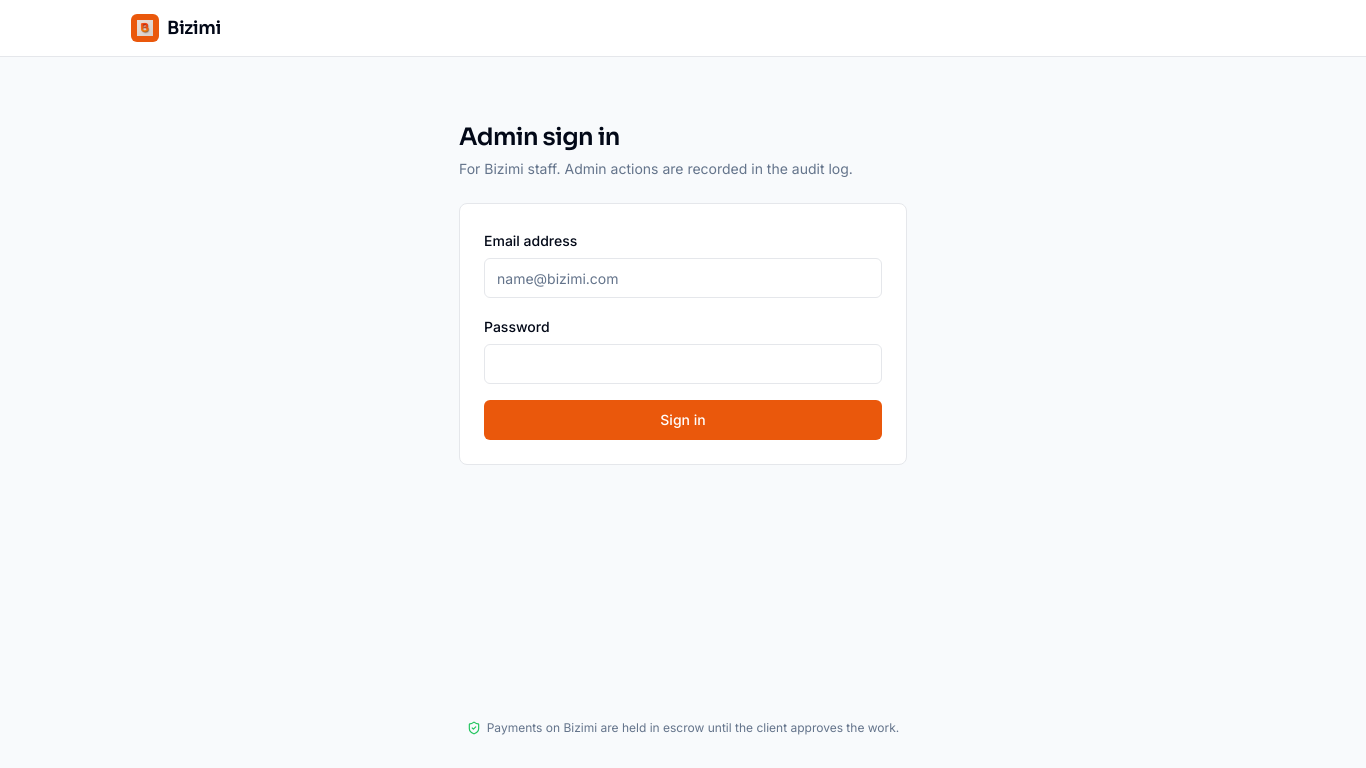
Test: AdminLogin › shows the auth error message when sign-in fails
Type "admin@bizimi.com" into the field labelled "Email address".
click(683, 278); type("admin@bizimi.com")  # box [484,258,882,298]
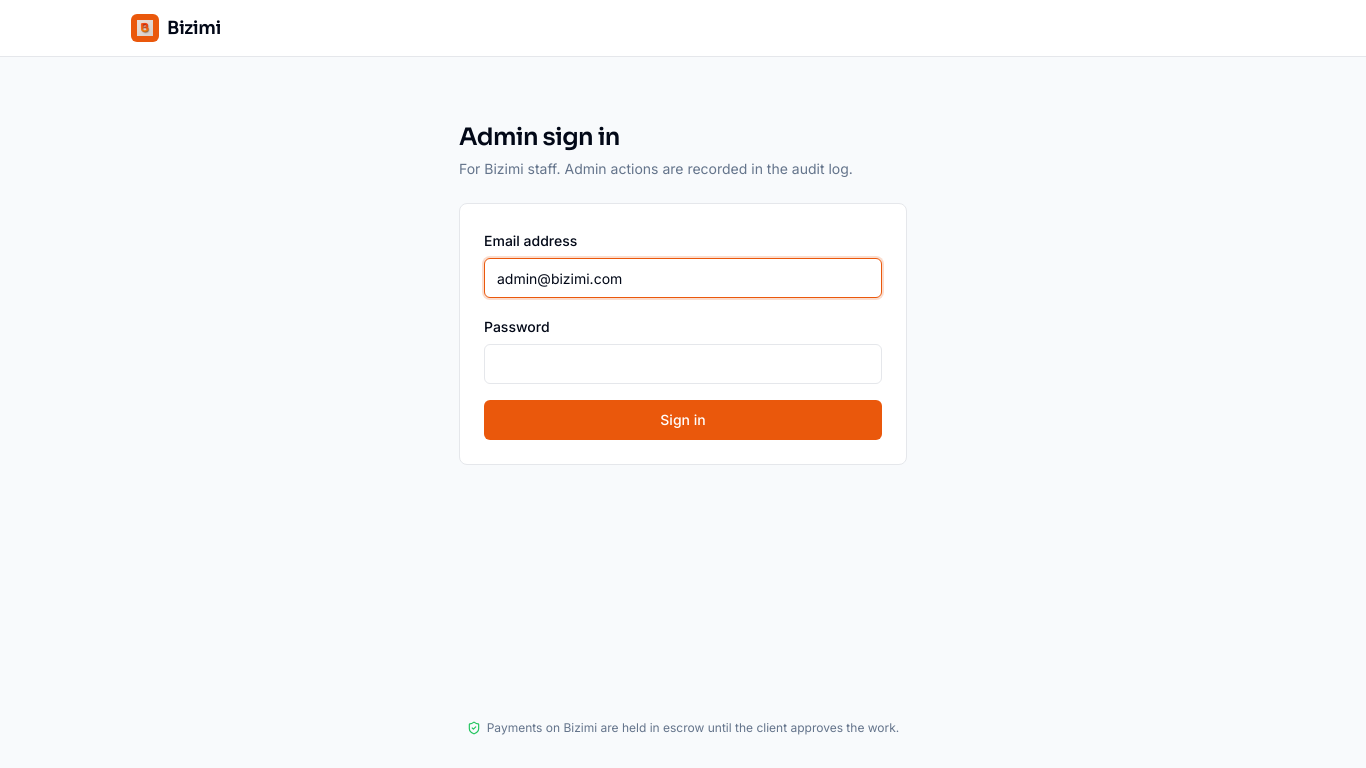
Type "hunter2" into the password field labelled "Password".
click(683, 364); type("hunter2")  # box [484,344,882,384]
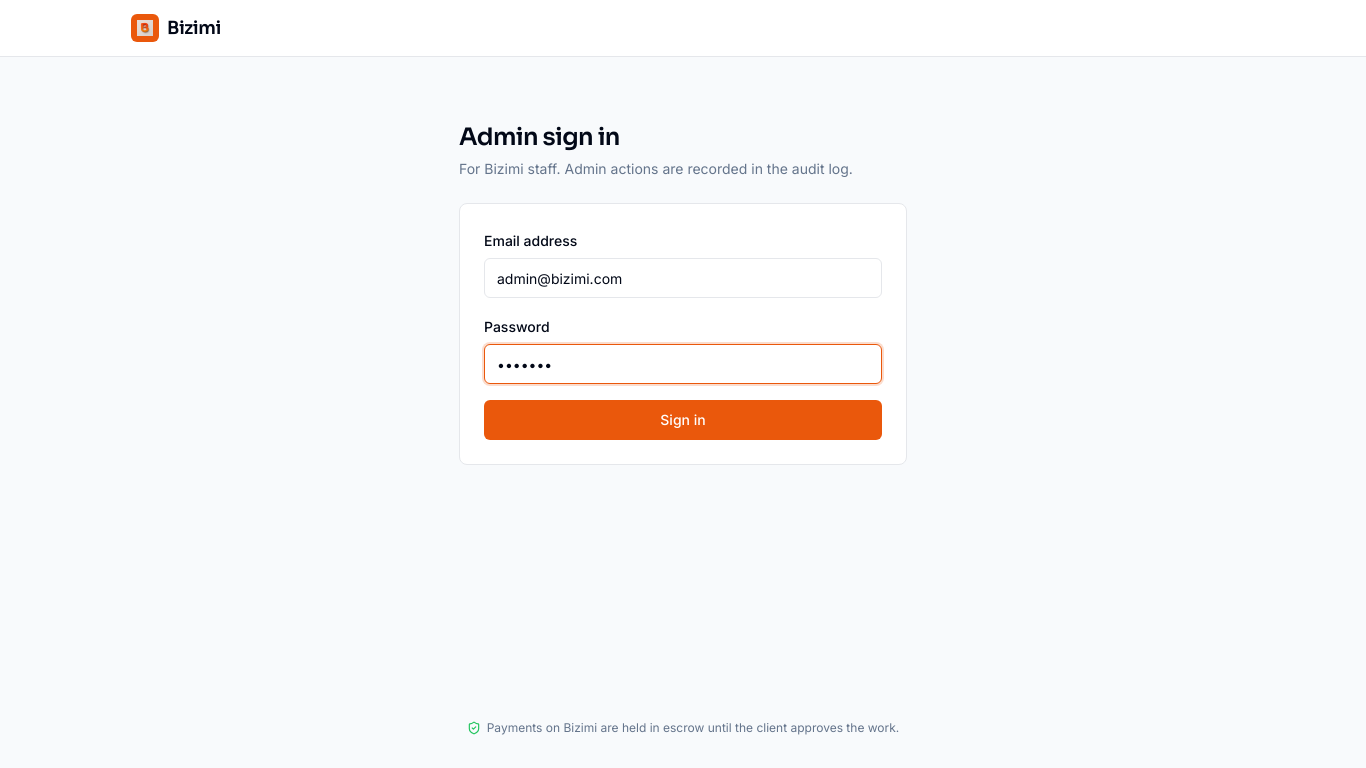
Click the button "Sign in".
click(683, 420)  # box [484,400,882,440]
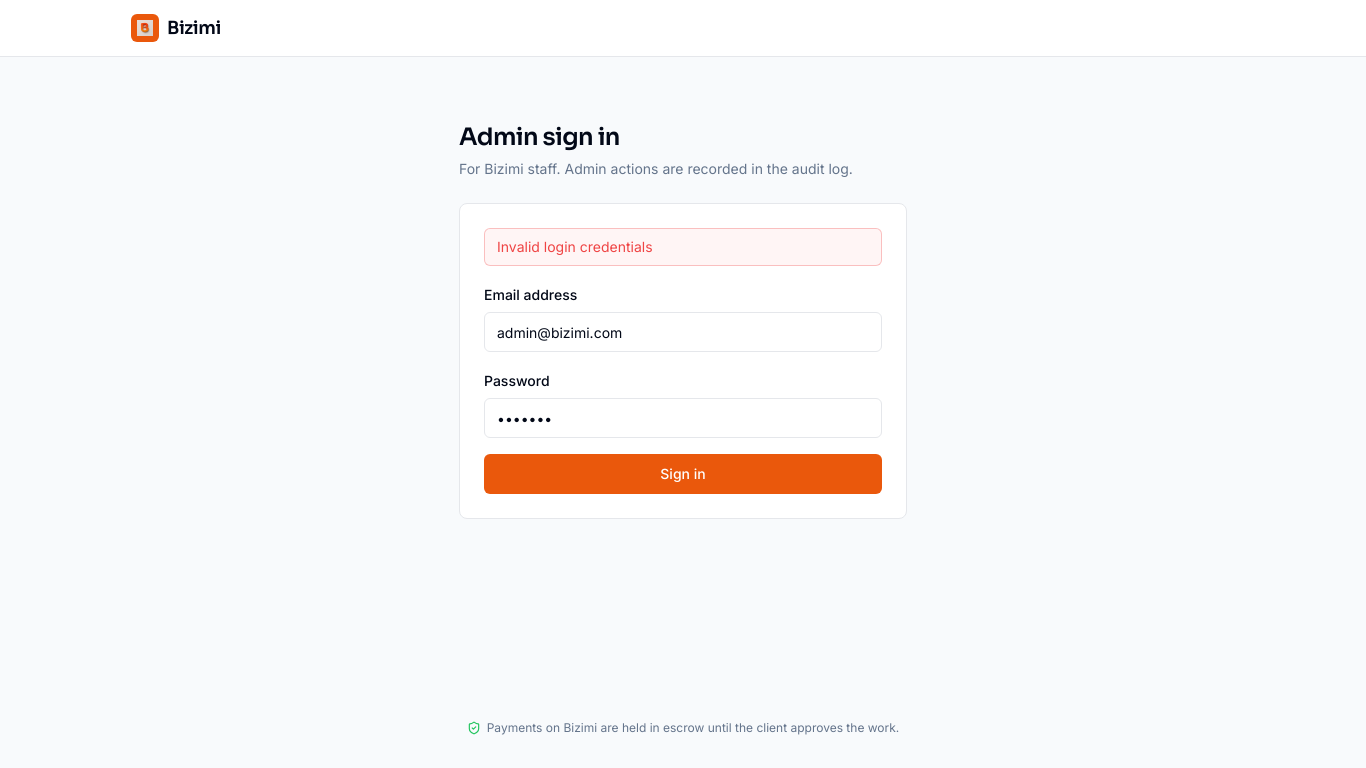
expect the text "Invalid login credentials" is shown: met, box [484,228,882,266]
